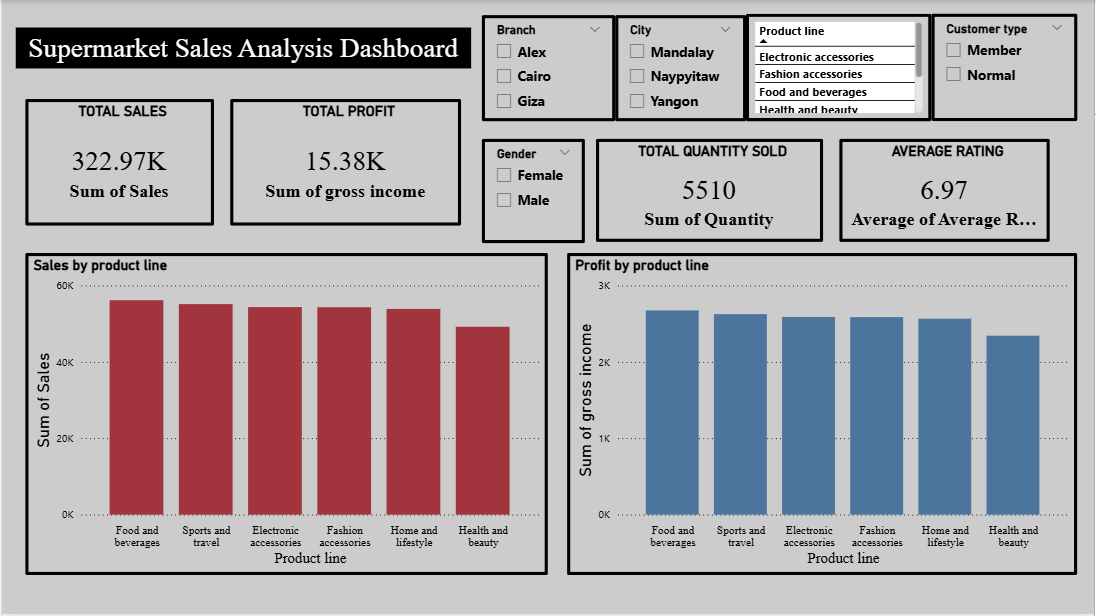

This screenshot's page, from the dashboard's own definition file:
{"tool":"powerbi","page":{"name":"Page 1","canvas":[1280,720],"ordinal":0},"visuals":[{"type":"textbox","box":[16.1,32.2,533.5,48.4],"z":0},{"type":"card","title":"TOTAL SALES","fields":{"Values":["Sum(SuperMarket Analysis.Sales)"]},"box":[27.4,116,220.8,148.3],"z":1000},{"type":"card","title":"TOTAL PROFIT","fields":{"Values":["Sum(SuperMarket Analysis.gross income)"]},"box":[267.5,116,270.8,148.3],"z":2000},{"type":"card","title":"TOTAL QUANTITY  SOLD","fields":{"Values":["Sum(SuperMarket Analysis.Quantity)"]},"box":[696.3,162.8,265.9,120.9],"z":3000},{"type":"card","title":"AVERAGE RATING","fields":{"Values":["Avg(SuperMarket Analysis.Average Rating)"]},"box":[981.6,162.8,246.6,120.9],"z":4000},{"type":"clusteredColumnChart","title":"Sales by product line","fields":{"Category":["SuperMarket Analysis.Product line"],"Y":["Sum(SuperMarket Analysis.Sales)"]},"box":[27.4,296.6,612.5,377.1],"z":5000},{"type":"clusteredColumnChart","title":"Profit by product line","fields":{"Category":["SuperMarket Analysis.Product line"],"Y":["Sum(SuperMarket Analysis.gross income)"]},"box":[662.4,296.6,598,377.1],"z":6000},{"type":"slicer","fields":{"Values":["SuperMarket Analysis.City"]},"box":[718.8,17.7,153.1,124.1],"z":7000},{"type":"tableEx","fields":{"Values":["SuperMarket Analysis.Product line"]},"box":[872,16.1,217.6,125.7],"z":8000},{"type":"slicer","fields":{"Values":["SuperMarket Analysis.Customer type"]},"box":[1089.5,16.1,170.8,125.7],"z":9000},{"type":"slicer","fields":{"Values":["SuperMarket Analysis.Branch"]},"box":[562.5,17.7,156.3,124.1],"z":10000},{"type":"slicer","fields":{"Values":["SuperMarket Analysis.Gender"]},"box":[562.5,162.8,120.9,122.5],"z":11000}]}

Visuals, with their boxes in screenshot pixels (x1, y1, x2, y2), scaled from the page's 1280x720 canvas onto the 1096x616 screenshot:
textbox: [14,28,471,69]
"TOTAL SALES" card: [23,99,213,226]
"TOTAL PROFIT" card: [229,99,461,226]
"TOTAL QUANTITY  SOLD" card: [596,139,824,243]
"AVERAGE RATING" card: [840,139,1052,243]
"Sales by product line" clusteredColumnChart: [23,254,548,576]
"Profit by product line" clusteredColumnChart: [567,254,1079,576]
slicer - SuperMarket Analysis.City: [615,15,747,121]
tableEx - SuperMarket Analysis.Product line: [747,14,933,121]
slicer - SuperMarket Analysis.Customer type: [933,14,1079,121]
slicer - SuperMarket Analysis.Branch: [482,15,615,121]
slicer - SuperMarket Analysis.Gender: [482,139,585,244]
